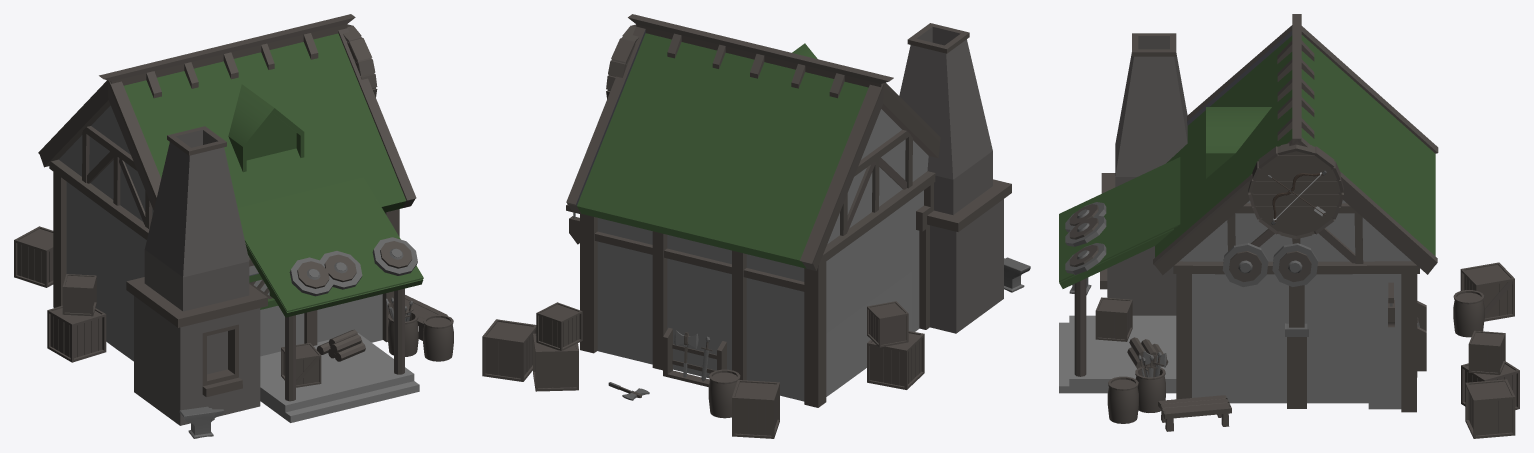
File: product_3lv(bow).fbx
3 renders of one model, left to right at view 1: azimuth 30°, elevation 25°; view 2: azimuth 150°, elevation 25°; view 3: azimuth 270°, elevation 25°, orthographic. The views are drawn at different scales.
Visible parts, largest first — view 1: product_3_bow; view 2: product_3_bow; view 3: product_3_bow.
Part boxes in pixels (x1,y1,x2,y2): product_3_bow: (14,14,453,438); product_3_bow: (482,14,1030,438); product_3_bow: (1059,14,1519,438).
Bounding box in the file's own units: 478 × 387 × 575.
